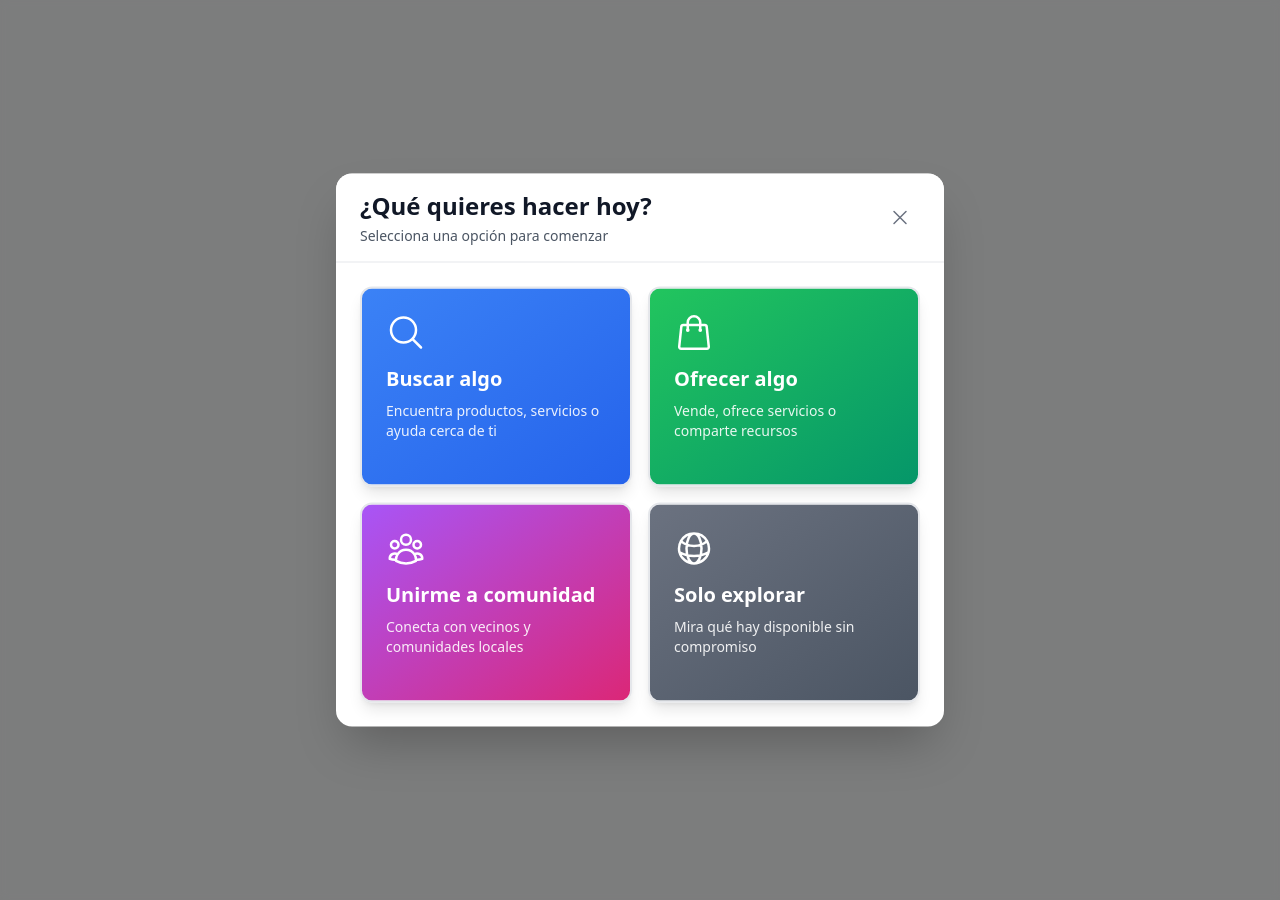
IntentionOnboarding › can go back from second step to first step
The image size is (1280, 900).
Click on search option
What coordinates should you click on to do the following:
click the heading "Buscar algo"
I would click on:
 (444, 378)
Its box is [386,364,502,392].
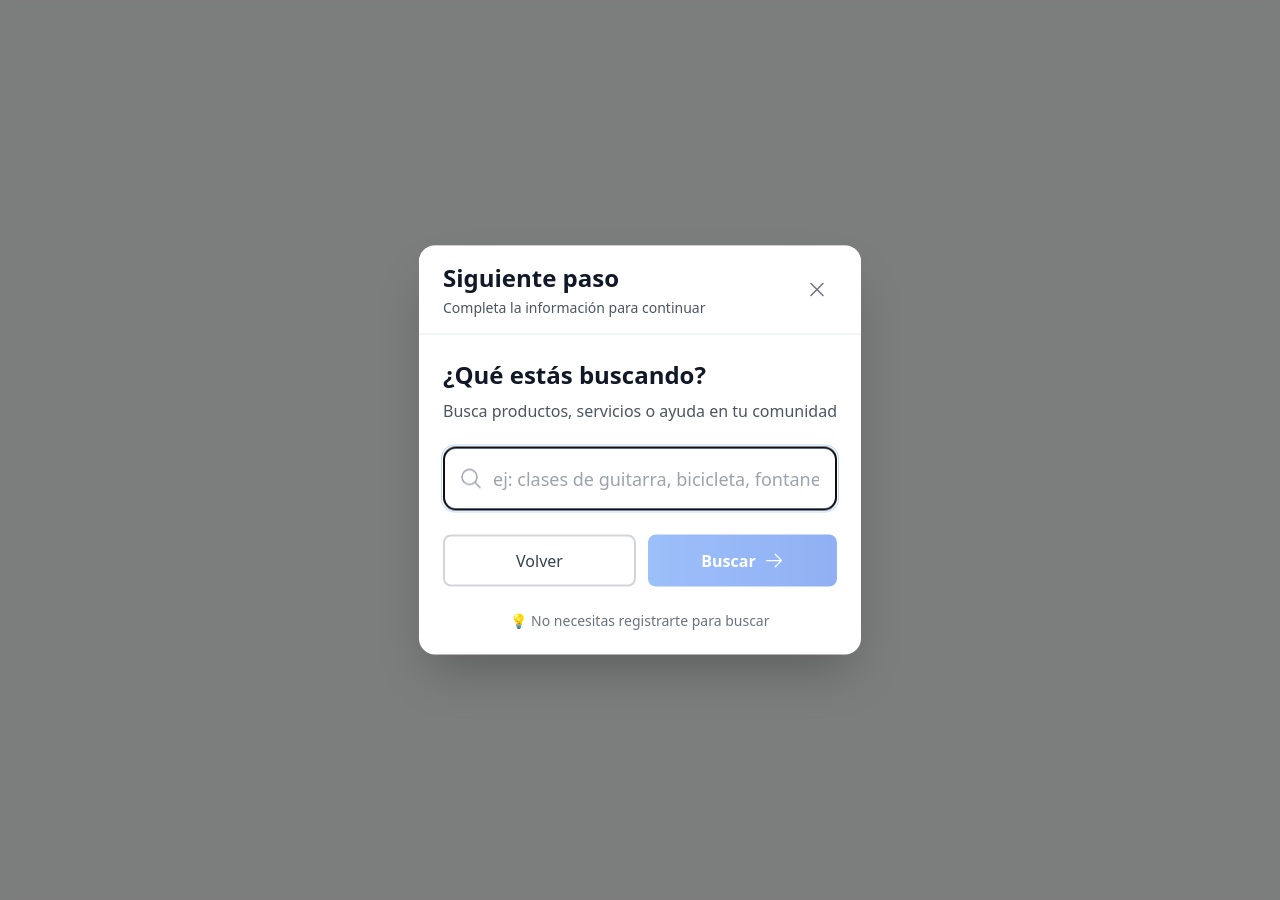
Now the heading "¿Qué estás buscando?" is shown, box [443,358,706,390]
Click back button
What coordinates should you click on to do the following:
click the button "Volver"
I would click on:
 (540, 560)
Its box is [443,534,636,586].
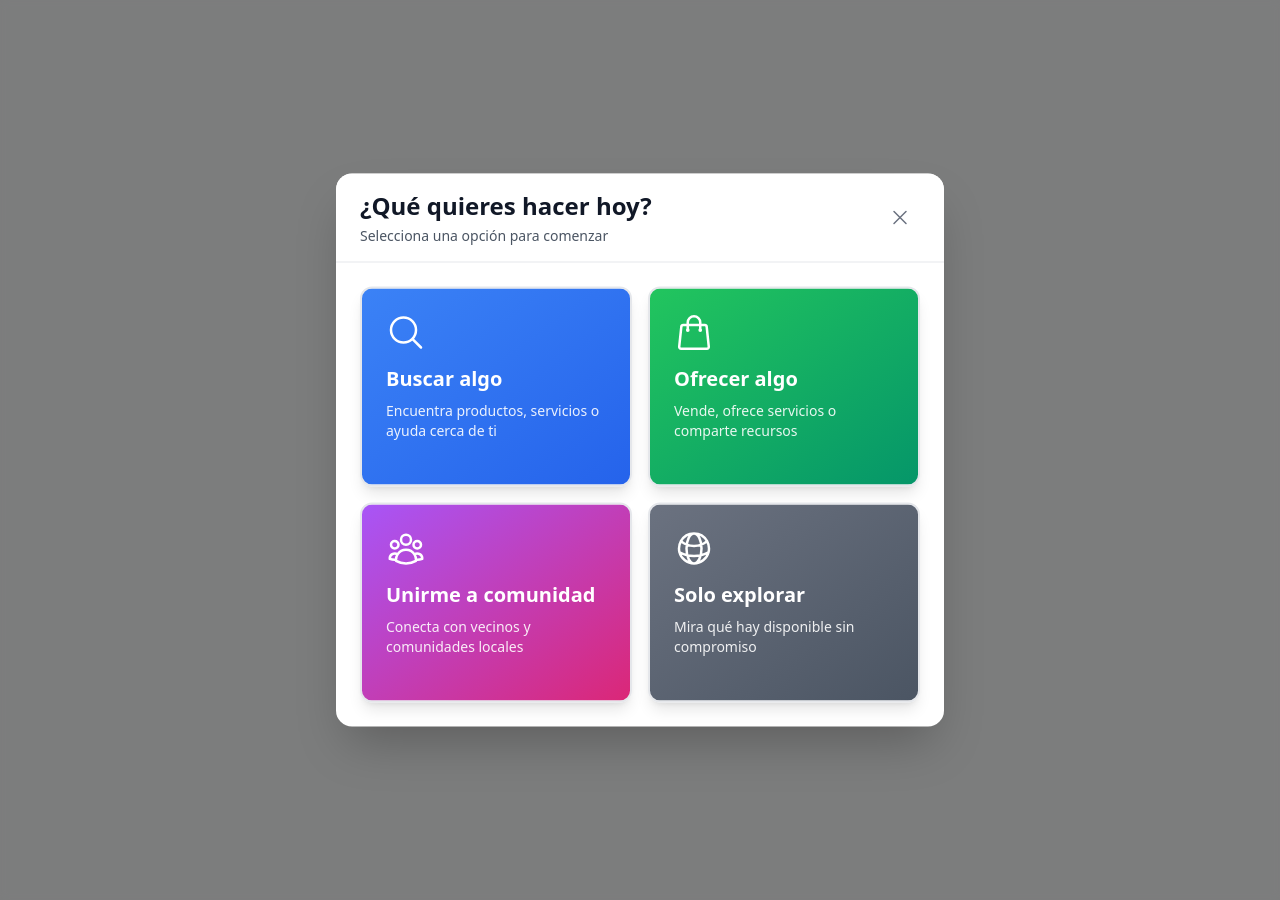
Now the heading "¿Qué quieres hacer hoy?" is shown, box [360,190,652,222]
Now the heading "Buscar algo" is shown, box [386,364,502,392]
